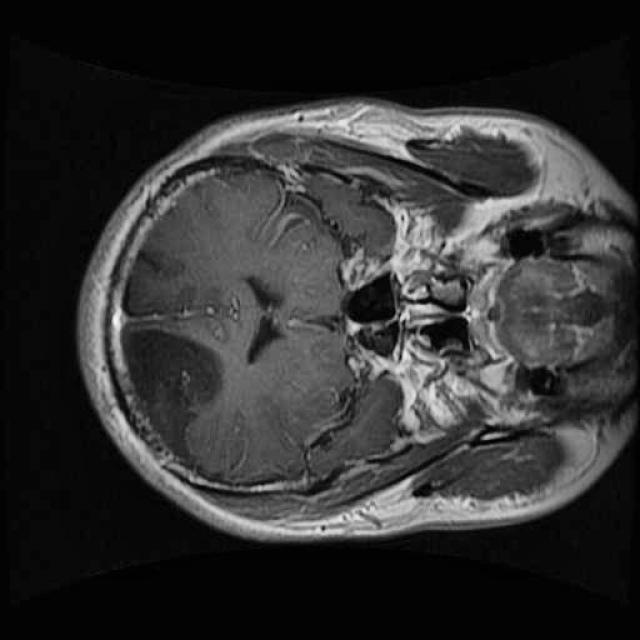Non-Tumor: (100, 309, 253, 498)
